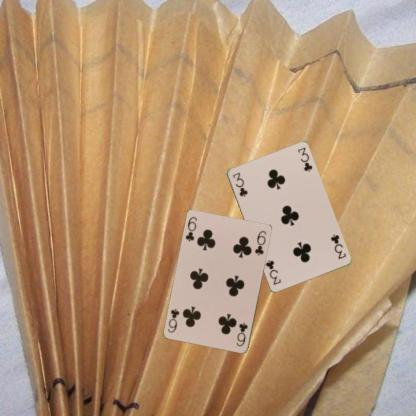3c: (230, 170, 249, 198), (328, 232, 347, 260)
6c: (183, 214, 198, 244), (234, 320, 249, 348)
